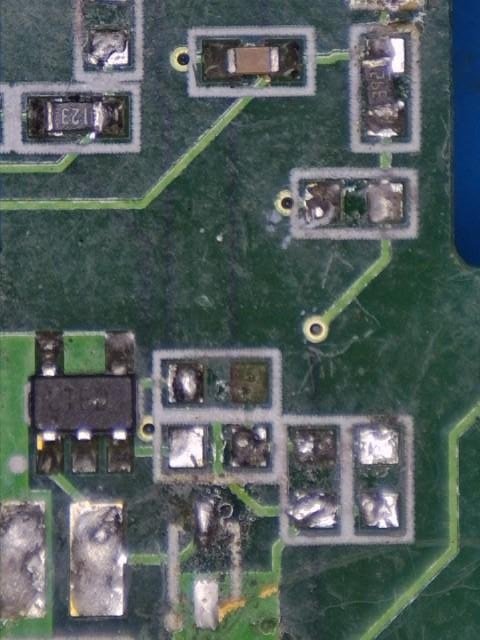pcb_defect: (360, 37, 405, 137)
